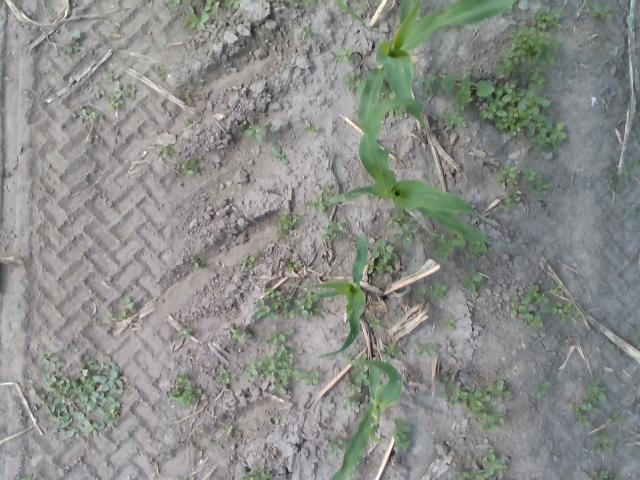Maize: (329, 98, 521, 246), (334, 0, 518, 129), (281, 232, 368, 358), (327, 360, 403, 480)
Weeds: (27, 344, 132, 438), (482, 84, 550, 136), (246, 346, 318, 380), (508, 25, 550, 58), (439, 382, 491, 408), (532, 121, 566, 151), (482, 448, 508, 478), (168, 384, 201, 407), (471, 404, 505, 424), (183, 7, 209, 32), (546, 302, 580, 321), (240, 461, 272, 480), (534, 10, 566, 29), (253, 298, 280, 320), (583, 379, 607, 402), (388, 416, 410, 440), (392, 223, 417, 244), (443, 107, 468, 128), (499, 162, 520, 187), (461, 268, 483, 291), (304, 196, 331, 214), (266, 329, 294, 345), (434, 239, 454, 260), (486, 380, 512, 396), (520, 284, 540, 304), (456, 76, 474, 98), (498, 58, 520, 76), (452, 469, 488, 480), (240, 252, 260, 271), (272, 146, 290, 166), (592, 2, 613, 19), (326, 438, 347, 455), (342, 73, 360, 92), (532, 175, 551, 193), (216, 368, 236, 385), (336, 46, 354, 64), (232, 328, 252, 344), (344, 380, 364, 396), (372, 250, 398, 262), (593, 431, 615, 445), (574, 402, 602, 413), (278, 213, 294, 232), (418, 343, 438, 358), (203, 0, 220, 17), (245, 124, 262, 141), (430, 281, 448, 297), (294, 298, 312, 314), (386, 342, 404, 358), (442, 74, 458, 91), (478, 80, 493, 98), (376, 238, 394, 253), (154, 63, 171, 78), (396, 206, 411, 223), (536, 380, 550, 398), (114, 82, 132, 96), (452, 98, 472, 110), (516, 306, 534, 319), (62, 40, 80, 53), (500, 198, 518, 211), (327, 219, 346, 231), (530, 312, 544, 328), (631, 324, 640, 348), (157, 146, 175, 158), (375, 262, 393, 274), (277, 294, 293, 307), (420, 76, 437, 88), (367, 318, 384, 330), (518, 65, 530, 82), (608, 410, 621, 425), (344, 396, 359, 409), (592, 468, 608, 480), (351, 372, 367, 384), (469, 241, 486, 252), (318, 181, 332, 194), (272, 382, 287, 394), (321, 228, 336, 240), (107, 98, 123, 109), (394, 440, 410, 451), (265, 288, 282, 298), (183, 116, 200, 126), (607, 464, 619, 478), (452, 236, 466, 248), (82, 108, 98, 118), (578, 415, 591, 427), (544, 52, 557, 64), (443, 318, 456, 330), (536, 293, 550, 304), (124, 296, 135, 310), (527, 168, 538, 182), (596, 446, 614, 454), (290, 0, 314, 6), (187, 158, 199, 170), (550, 37, 562, 49), (306, 291, 319, 302), (551, 283, 564, 294), (530, 66, 540, 80), (621, 167, 630, 182), (291, 214, 302, 226), (282, 308, 295, 318), (164, 0, 180, 8), (176, 374, 191, 382), (288, 258, 298, 270), (70, 29, 82, 39), (388, 216, 398, 228), (528, 54, 540, 64), (181, 165, 194, 174), (484, 424, 497, 433), (191, 257, 201, 268), (343, 351, 353, 362), (302, 27, 314, 36), (119, 311, 131, 320), (429, 229, 438, 241), (300, 312, 313, 320), (102, 72, 112, 82), (414, 290, 424, 300), (399, 248, 409, 258), (180, 328, 192, 336), (105, 316, 117, 324), (438, 232, 446, 244), (221, 0, 234, 7), (529, 83, 544, 89), (315, 308, 326, 316), (262, 39, 274, 46), (510, 296, 520, 304), (304, 380, 320, 385), (235, 122, 248, 128), (368, 260, 374, 273), (180, 94, 191, 101), (272, 415, 280, 424), (307, 125, 319, 131), (382, 352, 391, 360), (510, 189, 520, 196), (615, 182, 622, 192), (250, 112, 258, 120), (105, 311, 113, 319), (444, 374, 452, 382), (20, 476, 35, 480), (511, 310, 518, 318), (226, 426, 234, 433), (197, 448, 204, 456), (234, 1, 242, 8), (266, 123, 274, 130), (236, 429, 242, 438), (421, 93, 430, 99), (210, 439, 217, 446), (361, 352, 368, 359), (198, 76, 206, 82), (538, 76, 546, 82), (632, 161, 639, 167), (630, 208, 636, 215), (199, 428, 207, 433), (232, 86, 242, 90), (470, 252, 478, 257), (218, 444, 224, 450), (606, 173, 612, 179), (617, 347, 621, 355), (188, 477, 197, 480), (524, 322, 528, 328), (546, 84, 552, 88), (612, 166, 616, 171), (637, 216, 640, 220), (503, 377, 507, 380)
